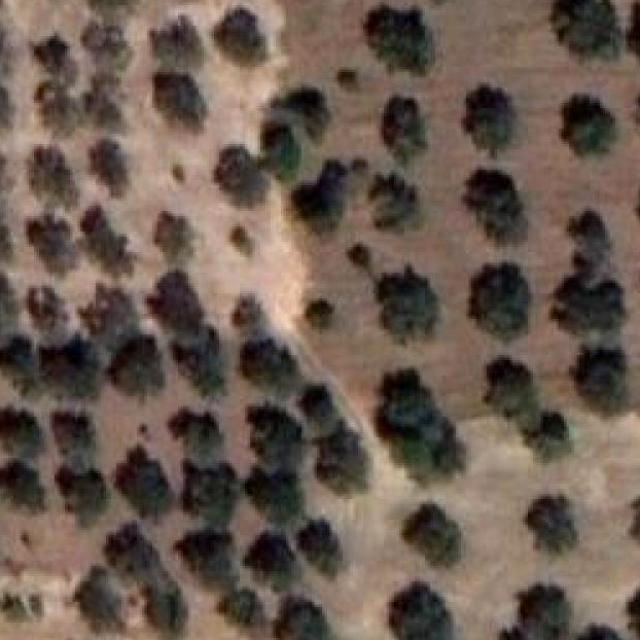Tree: (377, 371, 465, 484), (83, 20, 134, 130), (376, 266, 439, 344), (31, 34, 80, 133), (469, 264, 531, 342), (464, 170, 527, 245), (552, 273, 628, 334), (178, 456, 242, 525), (366, 10, 436, 73), (569, 342, 630, 414), (116, 446, 174, 520), (245, 452, 303, 524), (291, 160, 348, 233), (39, 334, 102, 400), (552, 0, 622, 59), (317, 420, 371, 495), (176, 528, 241, 590), (80, 206, 135, 279), (464, 86, 519, 158), (402, 504, 463, 568), (171, 327, 225, 397), (150, 266, 207, 332), (389, 583, 454, 640), (240, 338, 297, 402), (73, 566, 125, 633), (214, 144, 270, 206), (562, 95, 618, 156), (150, 70, 205, 131), (108, 522, 165, 580), (245, 533, 301, 592), (485, 359, 539, 420), (114, 334, 164, 398), (52, 468, 107, 526), (526, 494, 580, 552), (382, 96, 428, 164), (214, 8, 267, 67), (29, 148, 80, 209), (78, 286, 141, 335), (518, 583, 572, 640), (566, 209, 614, 273), (245, 404, 302, 457), (368, 173, 420, 231), (29, 214, 75, 277), (281, 87, 330, 141), (139, 584, 186, 640), (171, 406, 224, 455), (274, 597, 330, 640), (525, 412, 574, 461), (262, 122, 302, 181), (0, 403, 46, 454), (27, 285, 68, 342), (0, 461, 44, 512), (300, 520, 340, 576), (156, 211, 196, 265), (90, 139, 126, 198), (0, 335, 34, 396), (294, 383, 336, 429), (219, 590, 265, 628), (224, 294, 270, 332), (0, 272, 19, 342), (306, 298, 336, 329), (627, 0, 640, 67), (627, 586, 640, 639), (348, 244, 371, 269), (0, 82, 12, 128), (90, 0, 139, 11), (630, 493, 640, 543), (341, 70, 358, 92)
